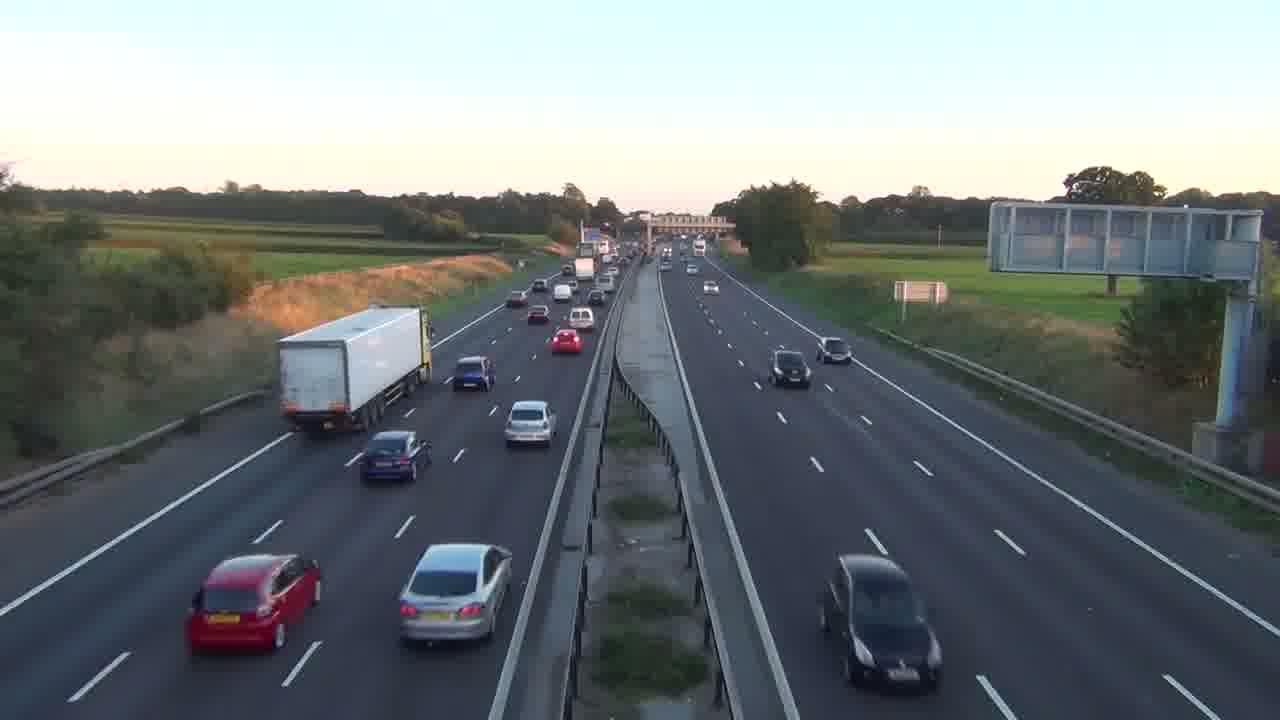car: (182, 552, 322, 658), (397, 542, 513, 648), (360, 429, 431, 484), (504, 399, 557, 449), (769, 347, 812, 388), (451, 354, 496, 391), (816, 337, 854, 365), (548, 328, 583, 355), (568, 305, 595, 331), (527, 308, 549, 325)
truck: (277, 305, 433, 435), (820, 552, 944, 693), (182, 552, 322, 658)
